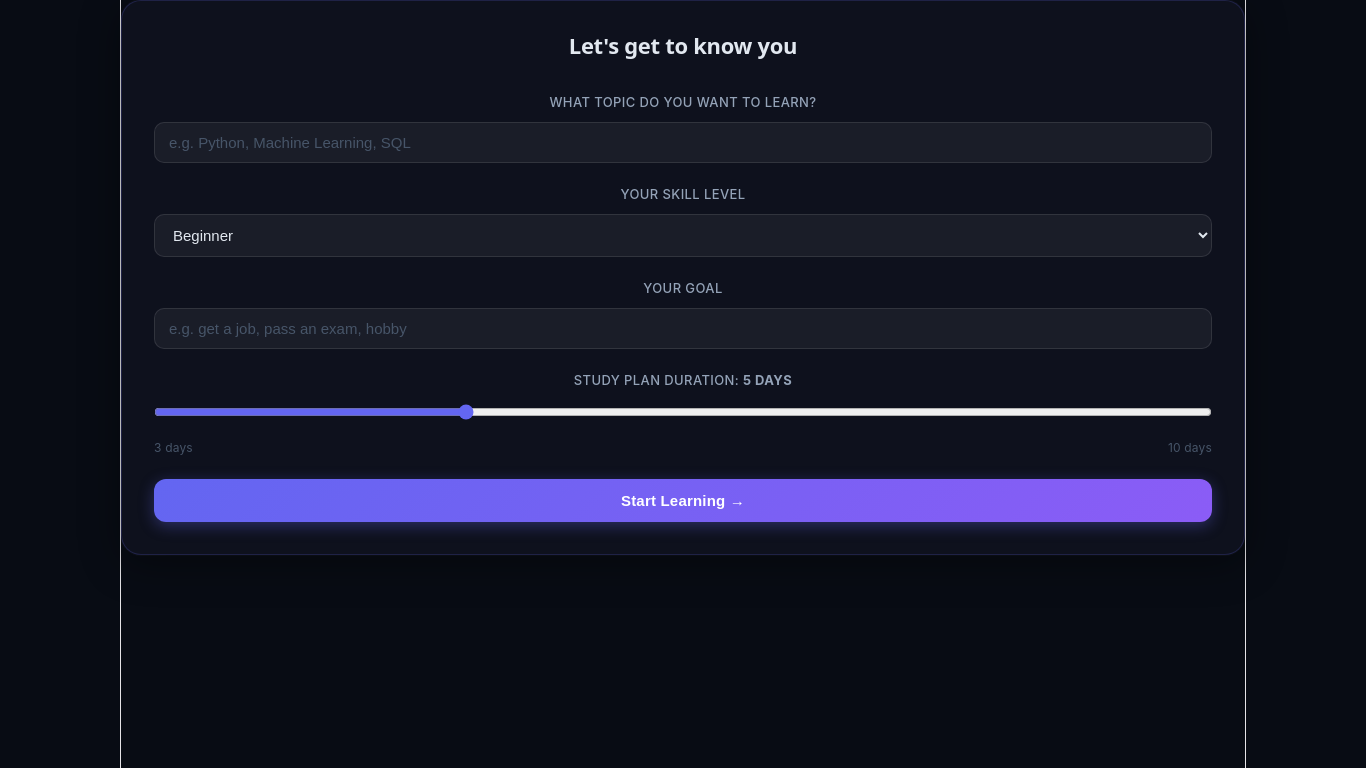
Test: IntakeForm › shows a validation error when topic or goal is missing
Click the button "Start Learning →": (683, 501) left=154, top=479, right=1212, bottom=522
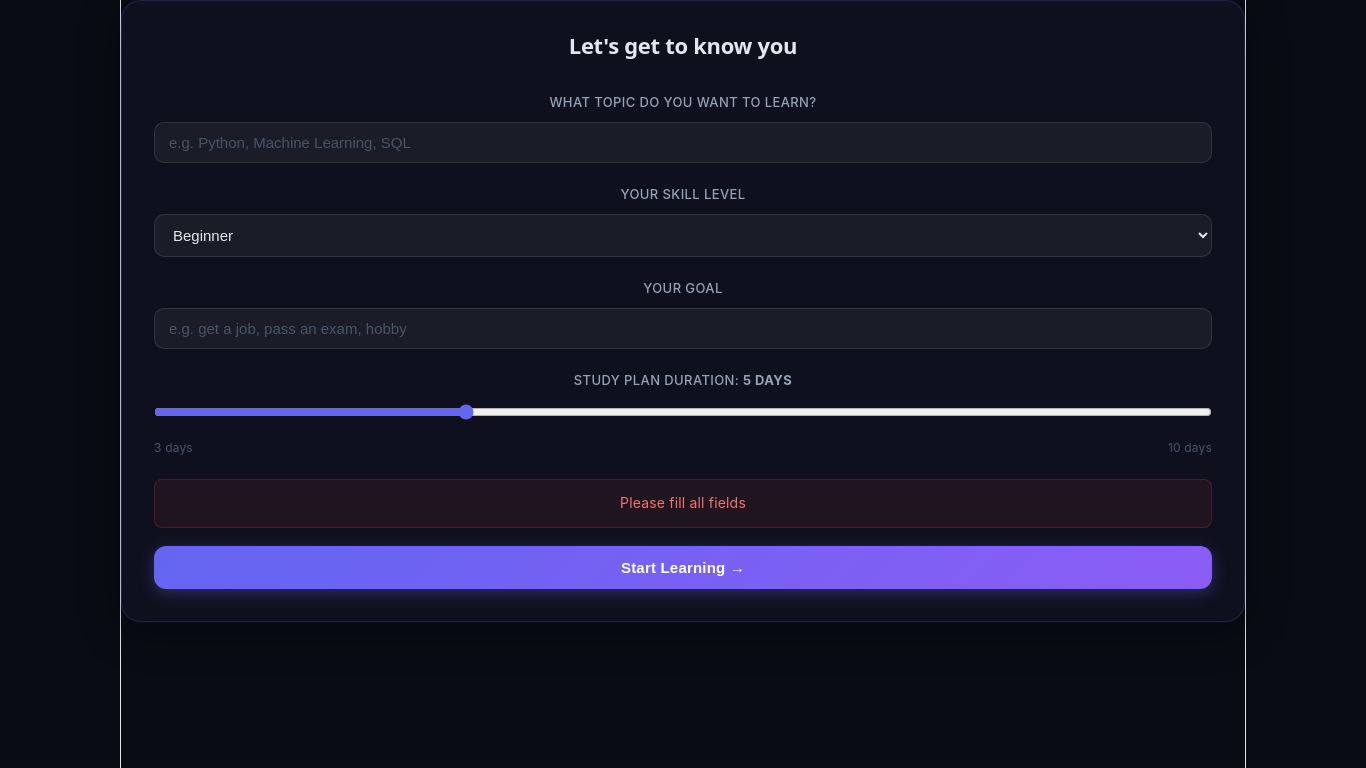
Expected: the text "Please fill all fields" is shown, left=154, top=479, right=1212, bottom=528
